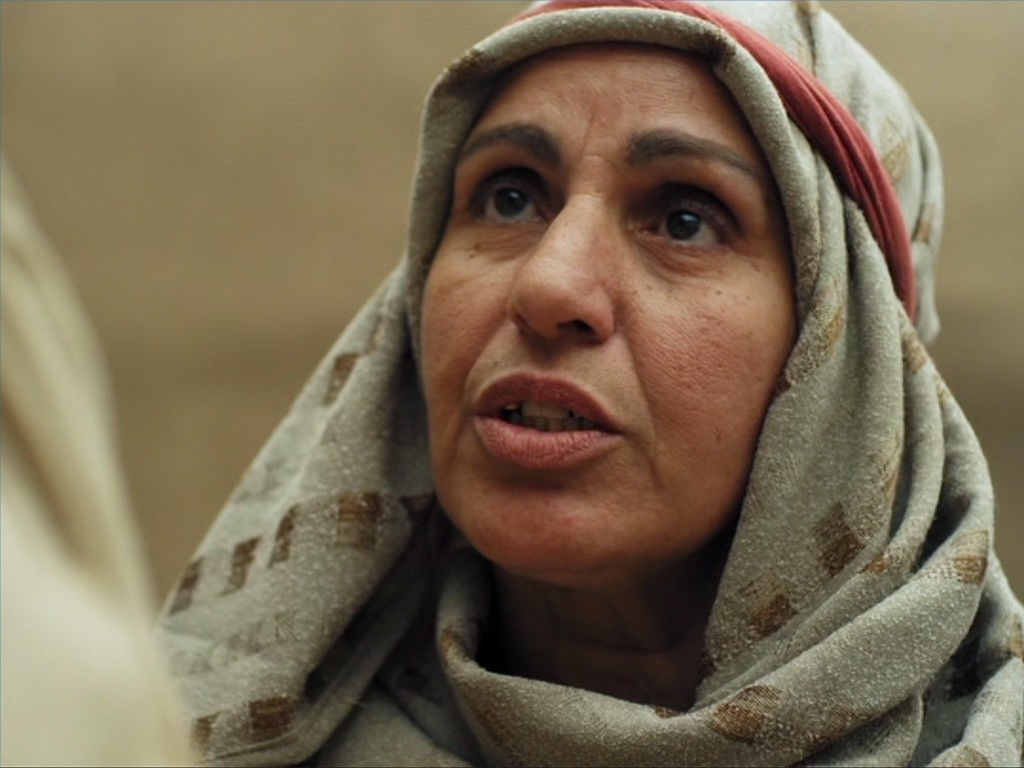without_mask: (401, 46, 851, 571)
